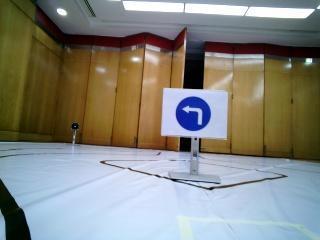left: (165, 89, 223, 140)
